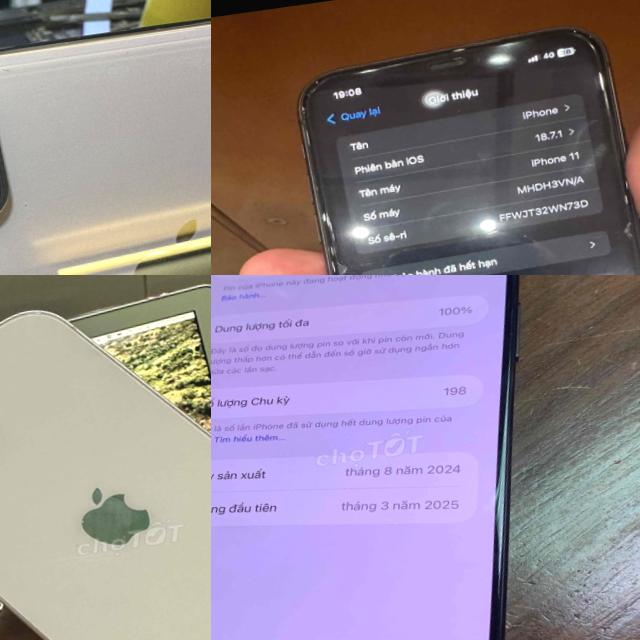gen_11: (283, 11, 640, 275)
gen_12_13: (0, 275, 211, 640)
gen_15: (211, 275, 587, 640)
gen_x_xs: (0, 13, 211, 275)
physical_damage: (306, 184, 432, 275), (290, 74, 352, 145), (605, 186, 640, 253)
scratch: (1, 64, 12, 74), (22, 203, 28, 209)
